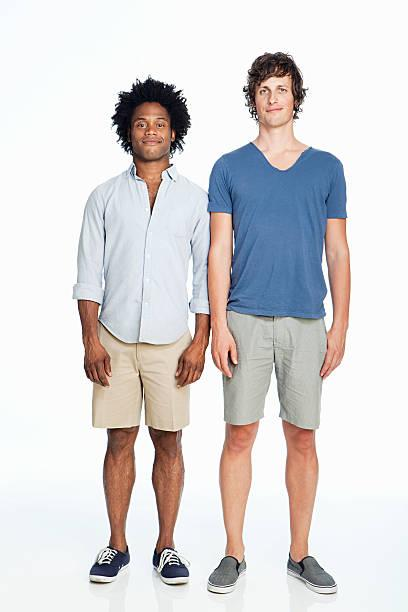Shorts: (219, 309, 334, 431), (89, 318, 195, 434)
long sleeve shirt: (70, 159, 212, 347)
short sleeve shirt: (203, 139, 350, 319)
